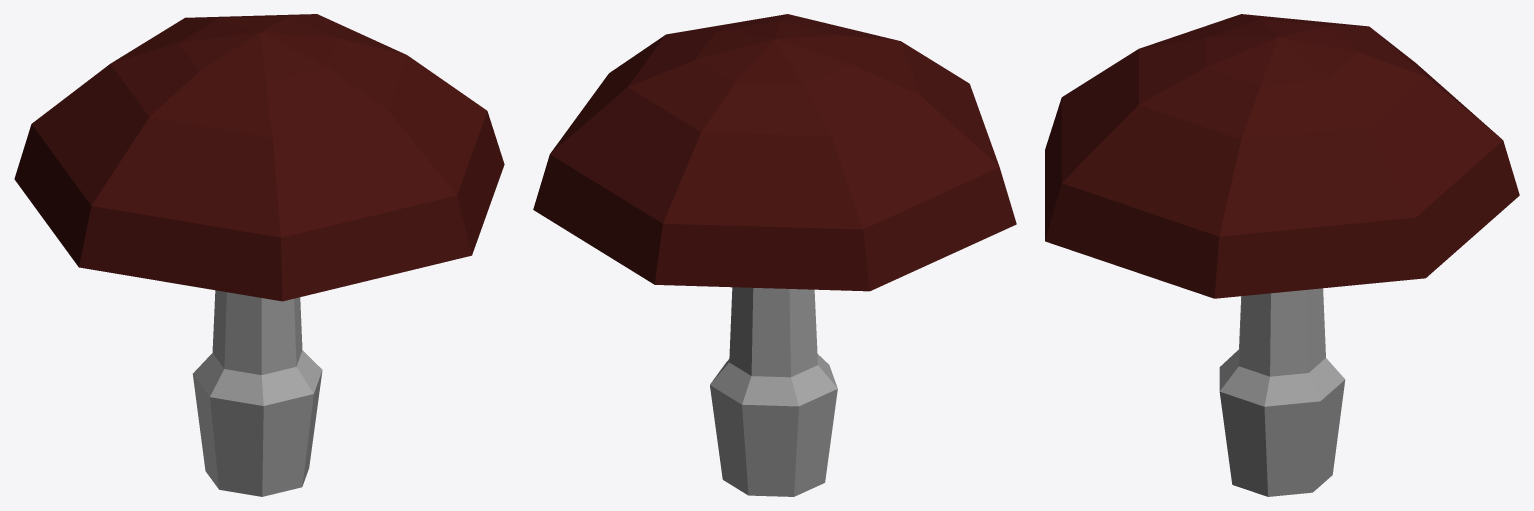
File: Mushroom.obj
3 renders of one model, left to right at view 1: azimuth 30°, elevation 25°; view 2: azimuth 150°, elevation 25°; view 3: azimuth 270°, elevation 25°, orthographic.
Visible parts, largest first — view 1: Mushroom; view 2: Mushroom; view 3: Mushroom.
Boxes of the visible parts, x1=… form: Mushroom: x1=14, y1=14, x2=504, y2=496; Mushroom: x1=533, y1=14, x2=1016, y2=496; Mushroom: x1=1045, y1=14, x2=1519, y2=496.
Bounding box in the file's own units: 0.7057 × 0.7008 × 0.688.
